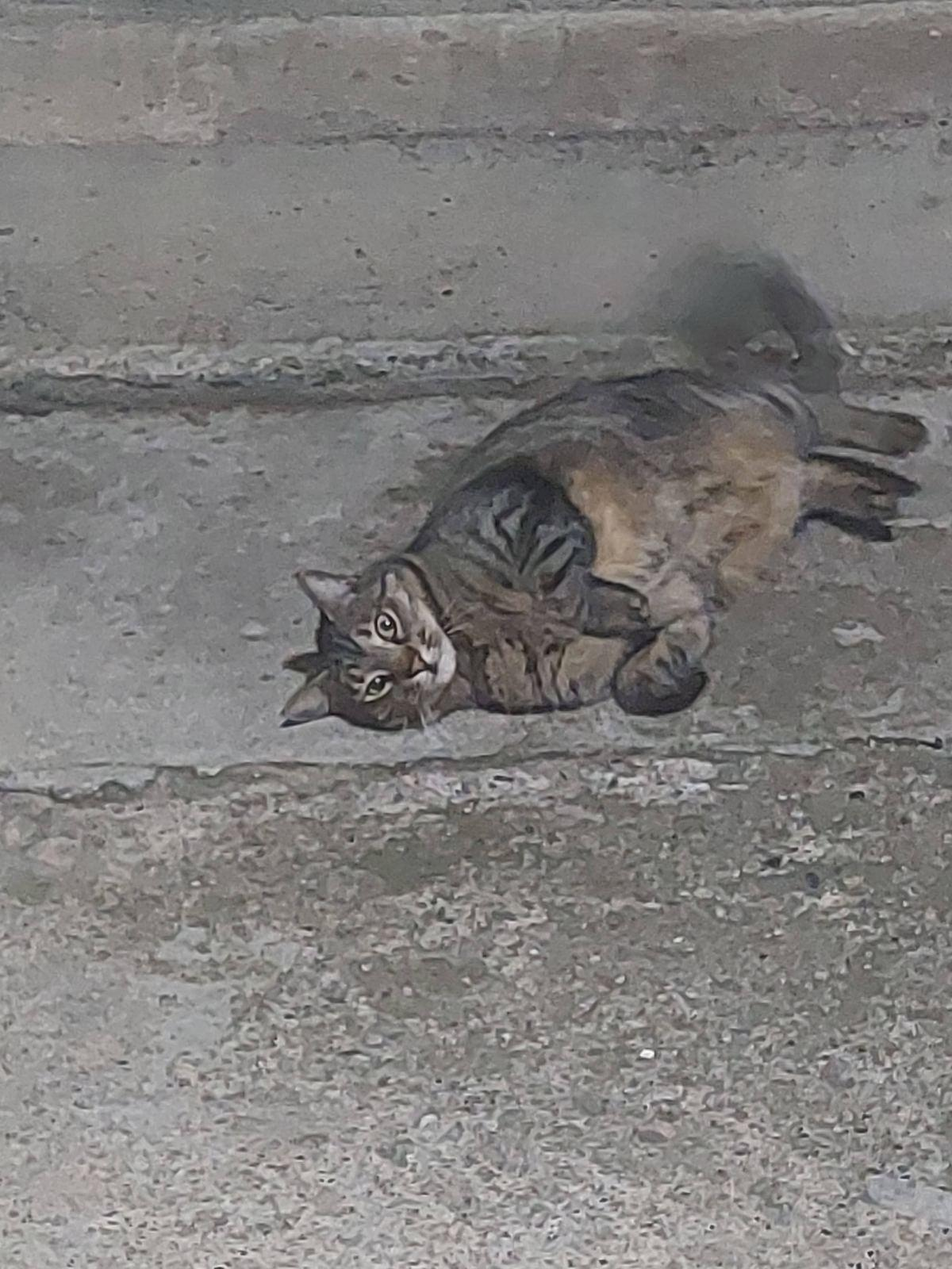macka: (282, 371, 933, 730)
